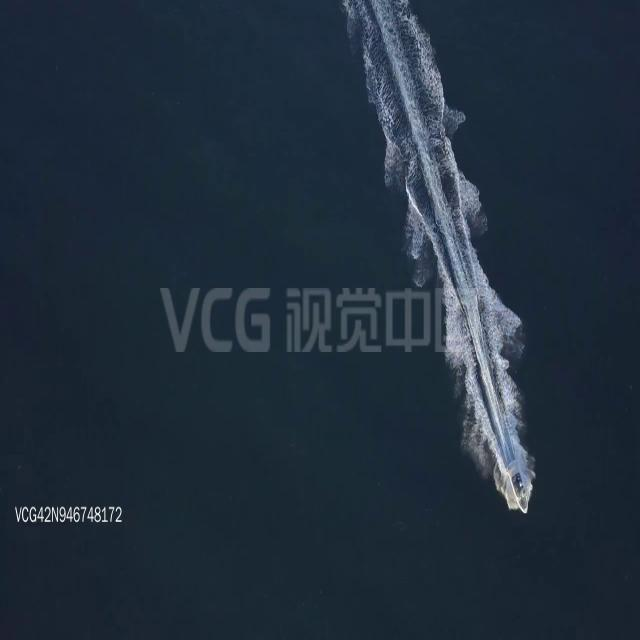houseboat: (504, 454, 530, 514)
